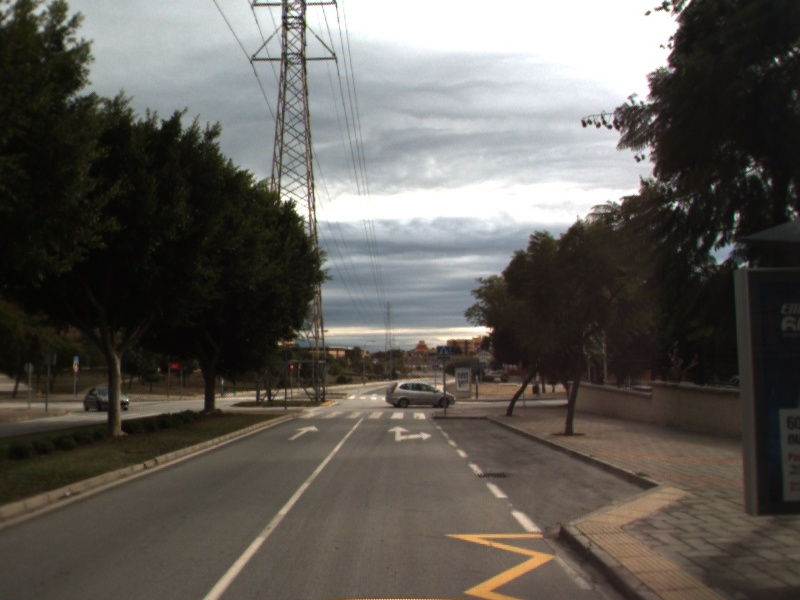STRAIGHT: (285, 423, 320, 442)
STRAIGHT_RIGHT: (386, 424, 434, 444)
